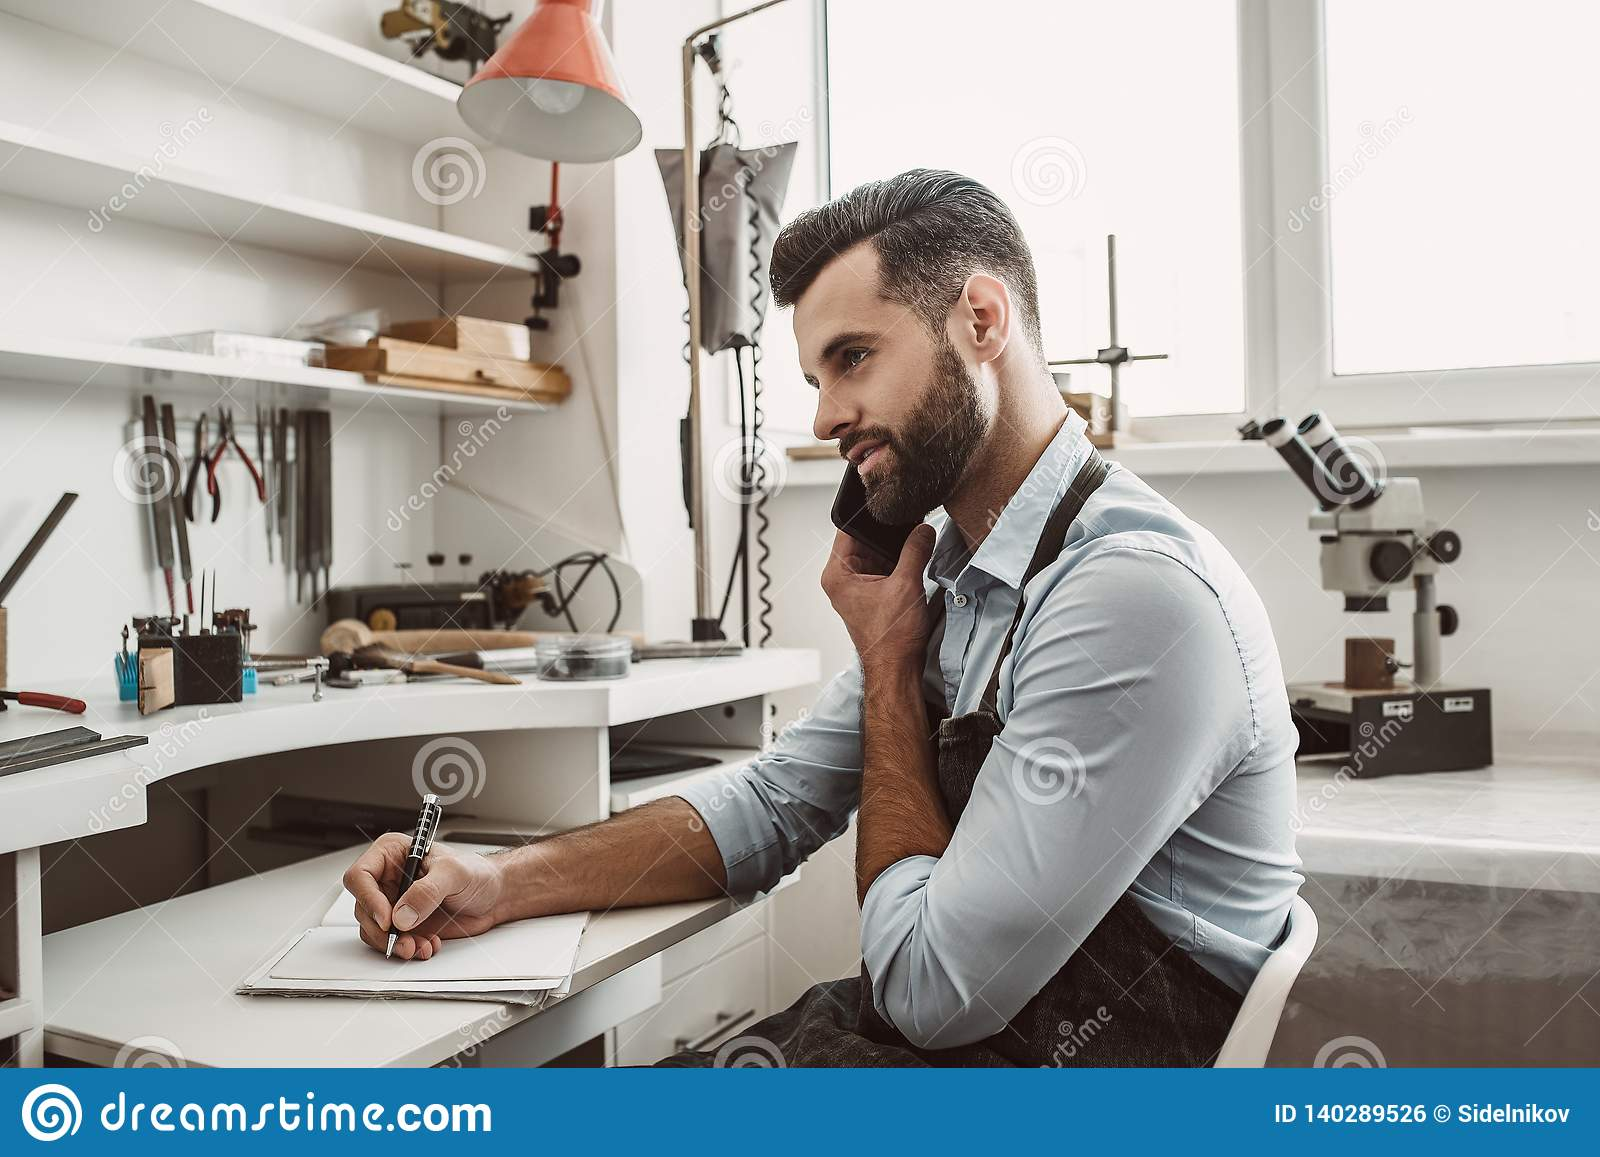phone: (832, 471, 927, 570)
talk: (798, 319, 952, 686)
